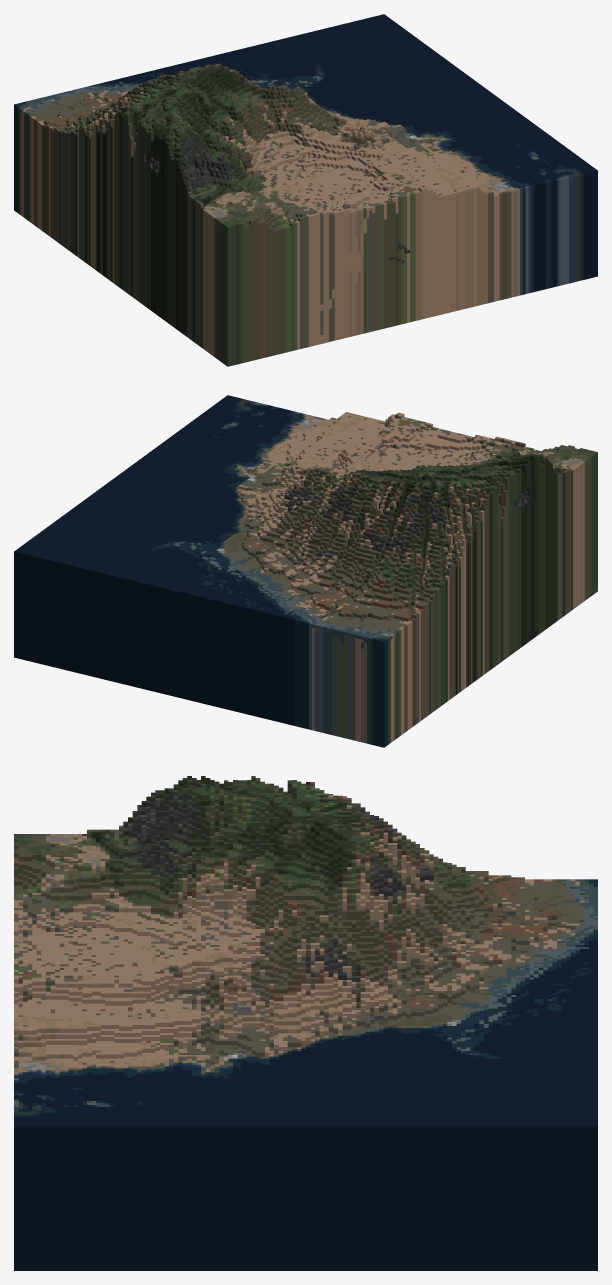
The model's file is MapⅤ2-0.obj.
The picture shows the model from 3 angles, top to bottom: view 1: azimuth 30°, elevation 25°; view 2: azimuth 150°, elevation 25°; view 3: azimuth 270°, elevation 25°; orthographic projection. The views are drawn at different scales.
Size of the model in its own units: 12.8 by 6.1 by 12.8.
Materials: 1 (1 with a texture image).
